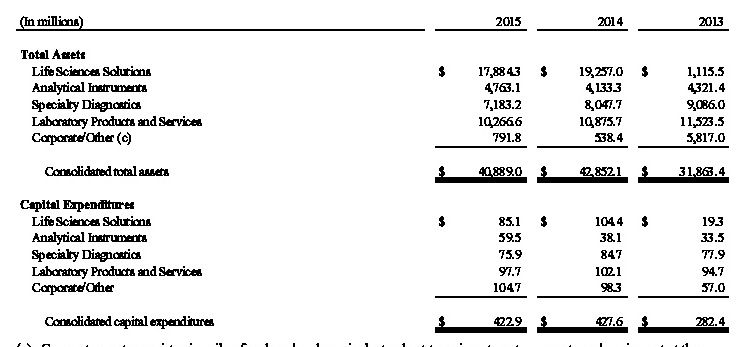table: (0, 0, 744, 347)
